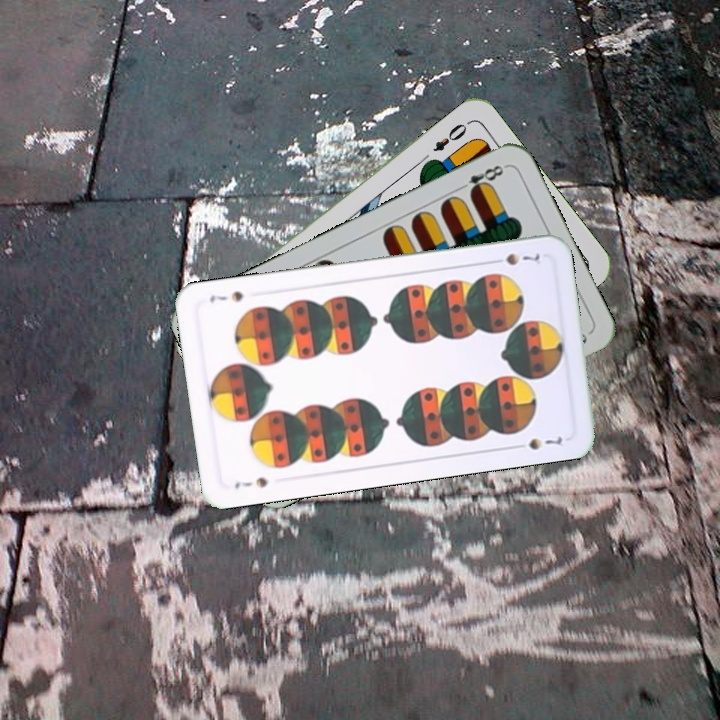E8: (453, 161, 509, 198)
EO: (429, 119, 470, 155)
S7: (487, 249, 543, 268), (230, 473, 270, 492)
